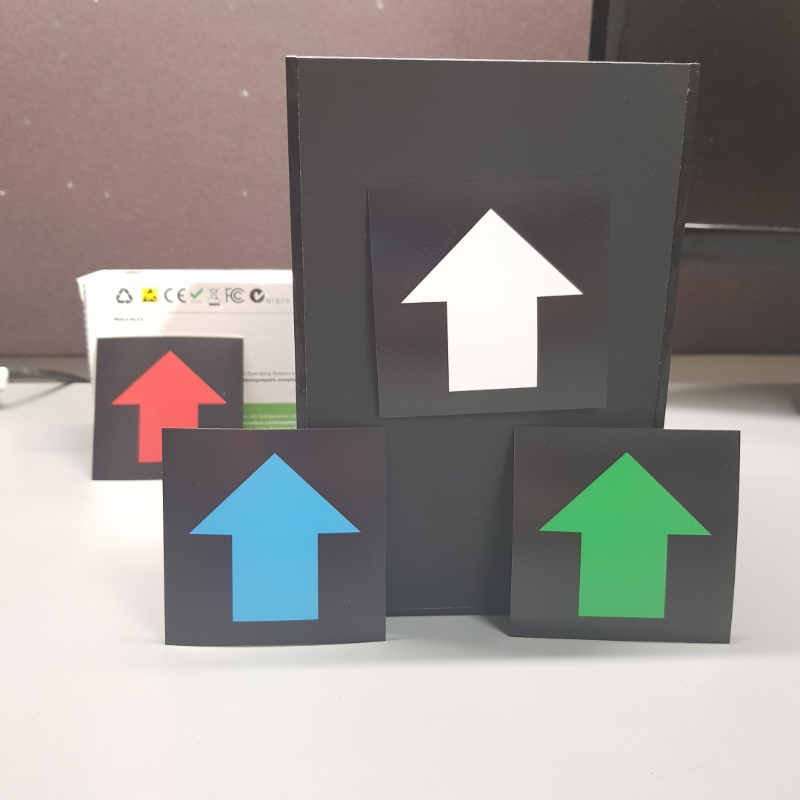LA-4: (169, 433, 373, 637)
RA-3: (519, 431, 725, 637)
UA-1: (381, 190, 593, 402)
